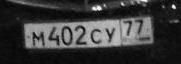license-plateSW: (23, 16, 155, 50)
